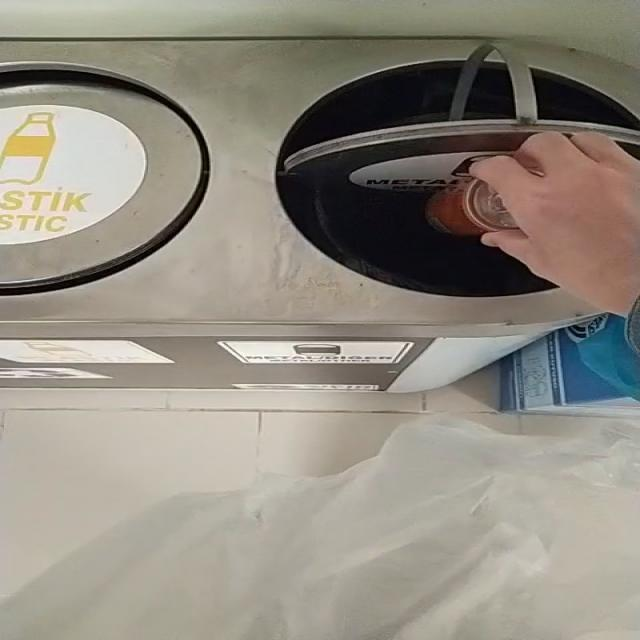Bin: (0, 38, 640, 392)
Metal: (427, 178, 520, 236)
